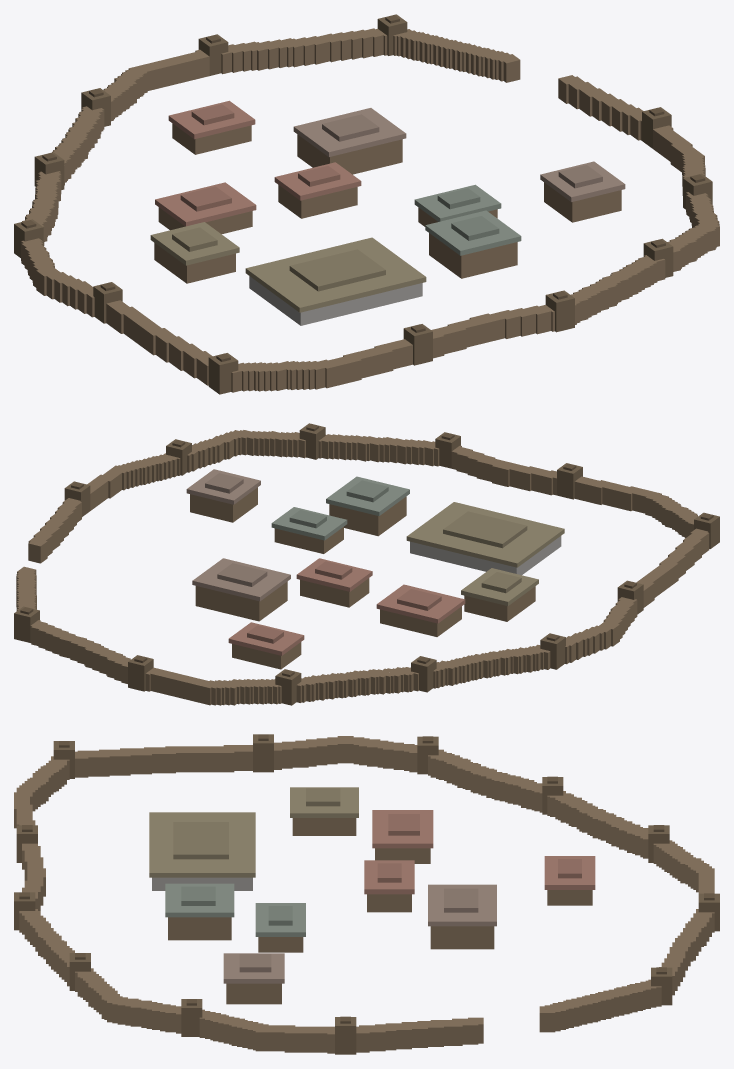
File: ciudad_campamento_barbaros_grande_2246_2748_01.glb
3 renders of one model, top to bottom at view 1: azimuth 30°, elevation 25°; view 2: azimuth 150°, elevation 25°; view 3: azimuth 270°, elevation 25°, orthographic. The views are drawn at different scales.
Visible parts, largest first — view 1: ciudad_campamento_barbaros_grande_2246_2748; view 2: ciudad_campamento_barbaros_grande_2246_2748; view 3: ciudad_campamento_barbaros_grande_2246_2748.
Boxes of the visible parts, <box> form: ciudad_campamento_barbaros_grande_2246_2748: <box>14,14,719,394</box>; ciudad_campamento_barbaros_grande_2246_2748: <box>14,423,719,705</box>; ciudad_campamento_barbaros_grande_2246_2748: <box>14,734,719,1054</box>.
Size of the model in its own units: 66.75 by 3.5 by 66.5.
